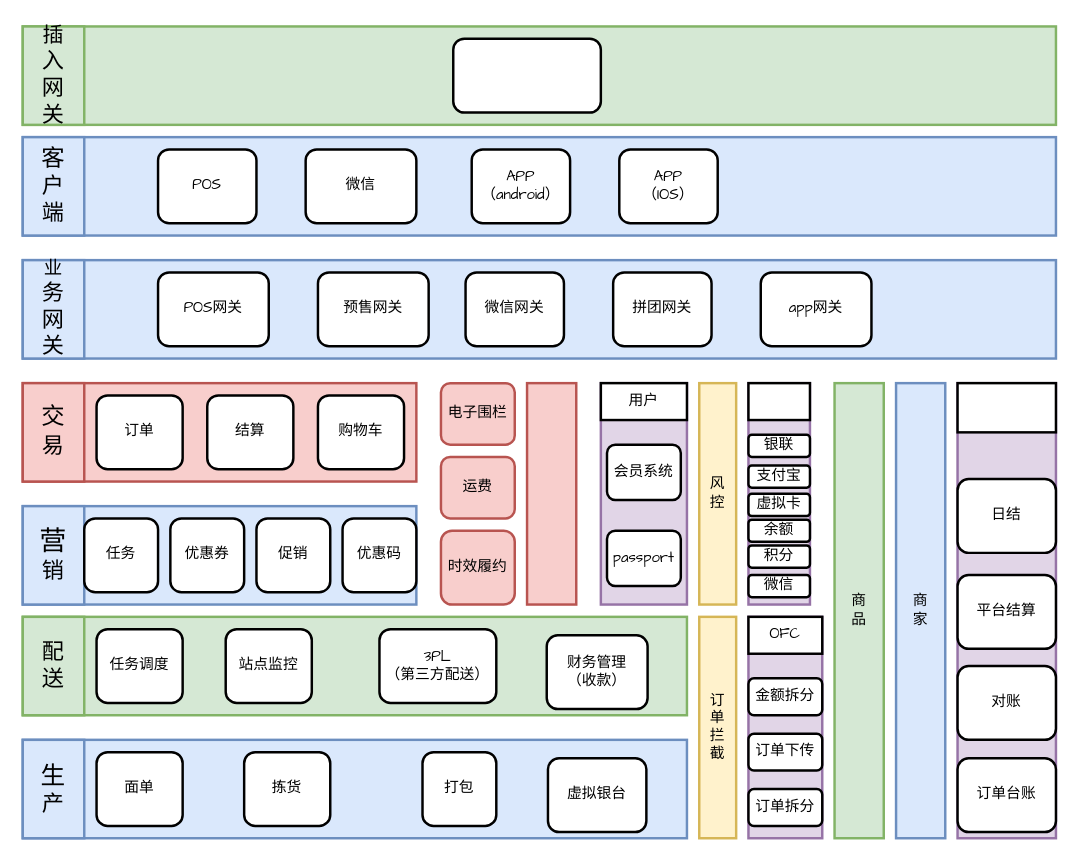
Image size: 1077x861. Some labels were removed from this diagram. The shapes that lost their labels are listed below. From the top down, each one's centre as x and y in pixels, then its label:
the point at 526,75: 接入网关 （安全，限流）
the point at 779,401: 支付
the point at 1006,407: 财务
the point at 551,493: 发 票
